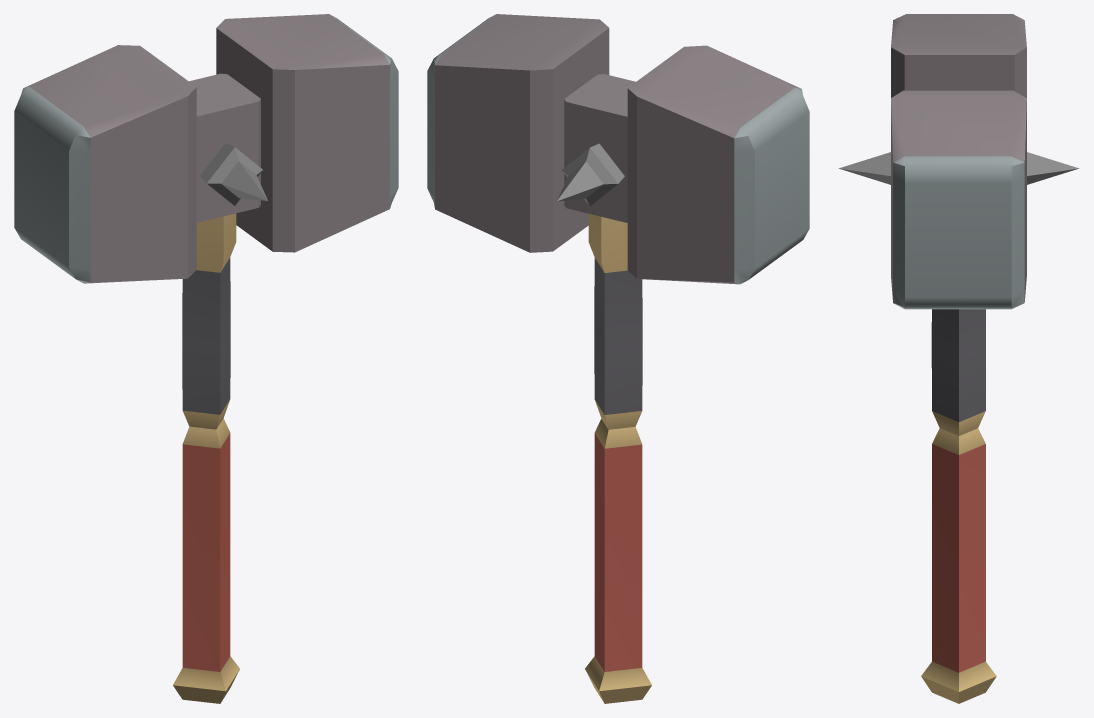
Rendered from Mace_5.fbx.
3 views of the same model, side by side, from view 1: azimuth 30°, elevation 25°; view 2: azimuth 150°, elevation 25°; view 3: azimuth 270°, elevation 25° (orthographic). The views are drawn at different scales.
Visible parts, largest first — view 1: polySurface368; view 2: polySurface368; view 3: polySurface368.
Boxes of the visible parts, x1,y1,x2,y2 form: polySurface368: (14,14,398,703); polySurface368: (427,14,809,703); polySurface368: (838,14,1079,703).
Bounding box in the file's own units: 96.23 × 178 × 62.79.
